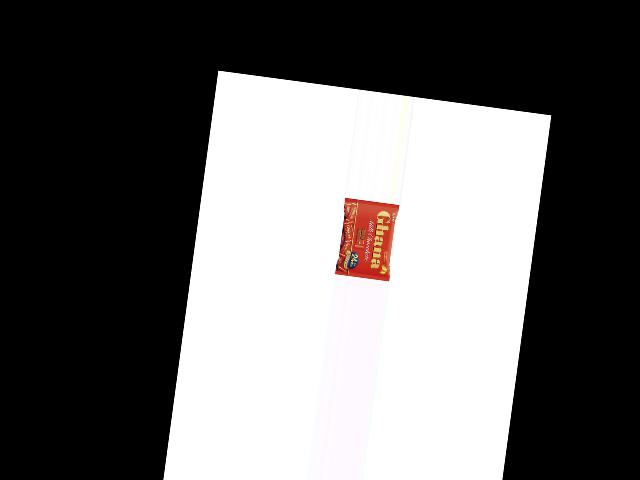chocolate: (332, 198, 397, 282)
